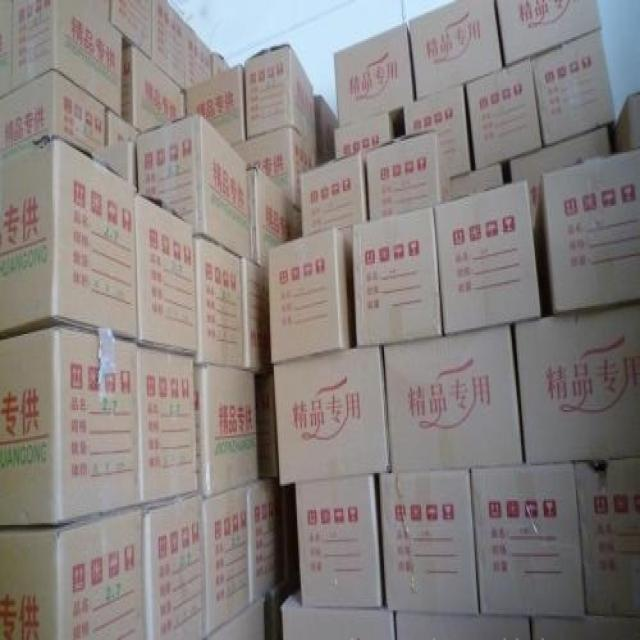box: (0, 134, 137, 339), (0, 326, 141, 525), (515, 301, 640, 464), (383, 325, 524, 469), (0, 506, 146, 640), (433, 178, 543, 338), (471, 464, 585, 618), (538, 148, 640, 315), (136, 113, 251, 260), (274, 343, 389, 488), (379, 467, 479, 612), (352, 204, 444, 349), (296, 473, 384, 607), (508, 126, 612, 237), (268, 226, 351, 365), (573, 458, 640, 618), (530, 28, 616, 145), (138, 347, 200, 505), (137, 193, 197, 354), (0, 70, 106, 160), (408, 0, 503, 100), (143, 492, 206, 640), (195, 362, 260, 499), (334, 22, 415, 128), (466, 58, 541, 171), (244, 45, 319, 152), (366, 128, 453, 219), (202, 484, 251, 636), (233, 126, 317, 208), (498, 0, 603, 65), (193, 237, 242, 367), (403, 85, 472, 176), (300, 148, 367, 237), (280, 590, 396, 640), (247, 165, 302, 269), (122, 45, 184, 132), (183, 67, 247, 147), (396, 610, 530, 640), (248, 482, 279, 603), (151, 0, 186, 89), (241, 258, 269, 369), (334, 109, 394, 156), (207, 594, 264, 640), (530, 618, 640, 640), (110, 0, 151, 59), (92, 141, 137, 182), (183, 24, 212, 87), (452, 163, 503, 198), (616, 91, 639, 154), (316, 98, 338, 154), (105, 111, 136, 147), (211, 54, 233, 78)
